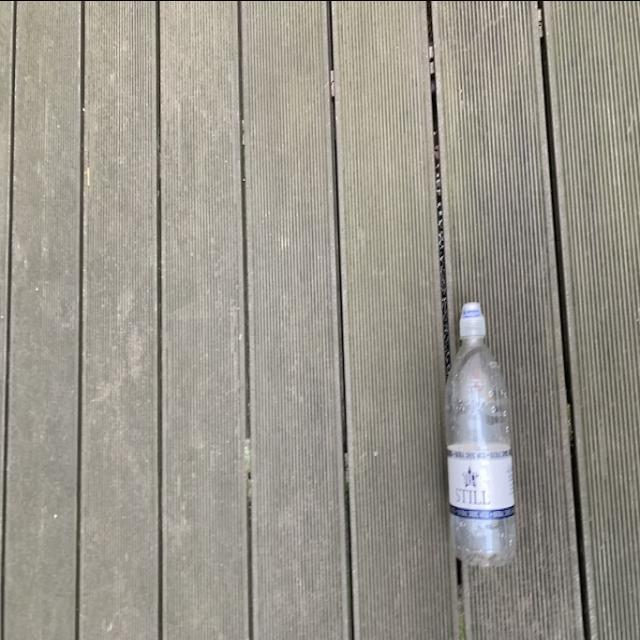PET: (443, 300, 520, 570)
